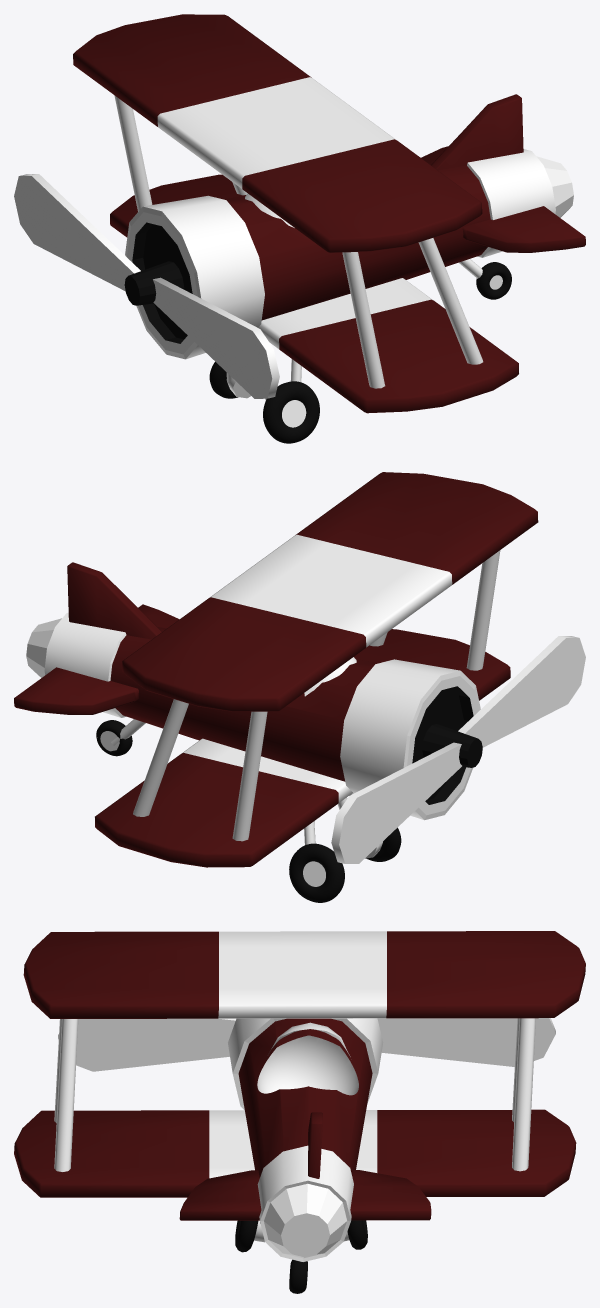
The model's file is Airplane_1354.obj.
3 renders of one model, top to bottom at view 1: azimuth 30°, elevation 25°; view 2: azimuth 150°, elevation 25°; view 3: azimuth 270°, elevation 25°, orthographic. The views are drawn at different scales.
Parts seen in each view (by area): view 1: Torus001; view 2: Torus001; view 3: Torus001.
Part boxes in pixels (bbox=[...]): Torus001: bbox=[14, 14, 585, 443]; Torus001: bbox=[14, 472, 585, 902]; Torus001: bbox=[14, 931, 585, 1293].
Bounding box in the file's own units: 191 × 123 × 222.
